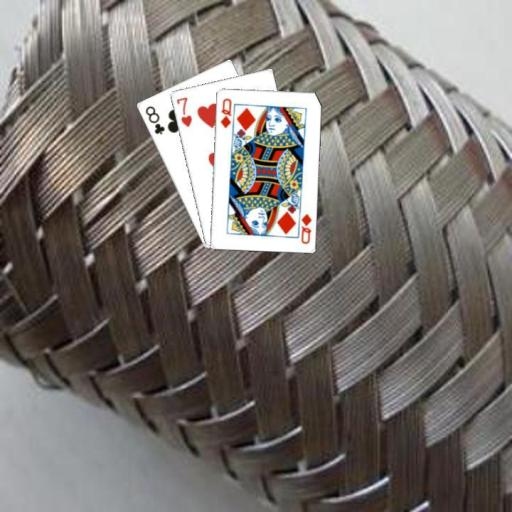7H: (173, 94, 193, 129)
8C: (142, 102, 166, 136)
QD: (217, 95, 232, 130), (298, 211, 313, 246)
